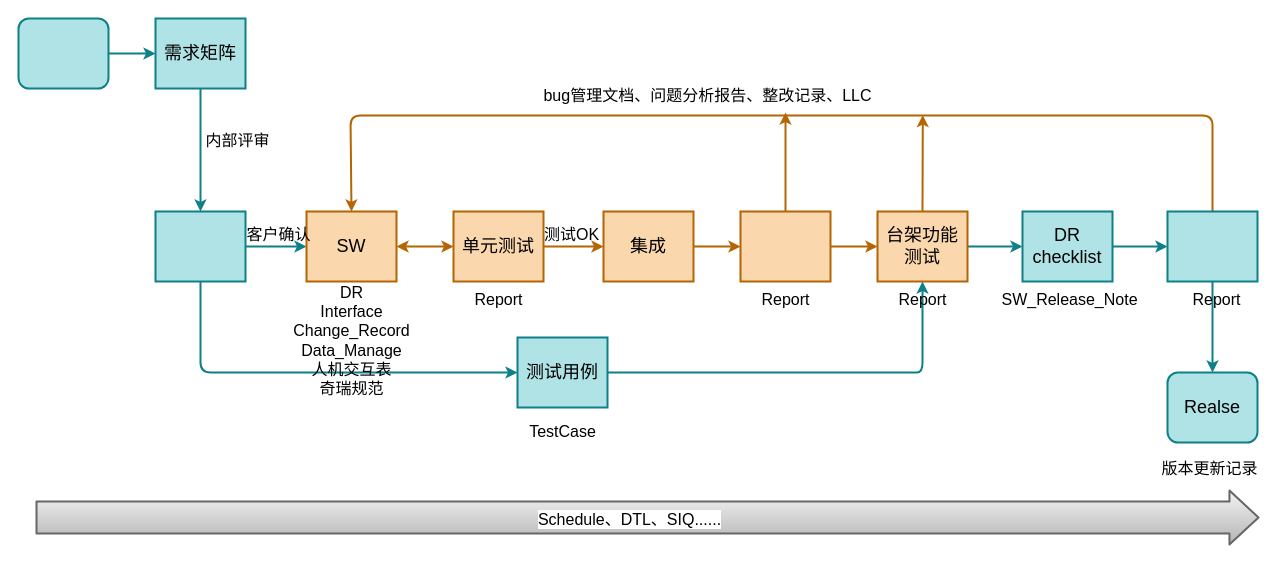
Image size: 1279x562. Some labels were removed from this diagram. The shapes that lost their labels are listed below. From the top down, each one's box as (x1, y1, x2, y2) in pixels, then its label:
(17, 17, 109, 89): 客户需求文档
(154, 210, 246, 282): CRS
(739, 210, 831, 282): 静态检查
(1166, 210, 1258, 282): 整车验证
